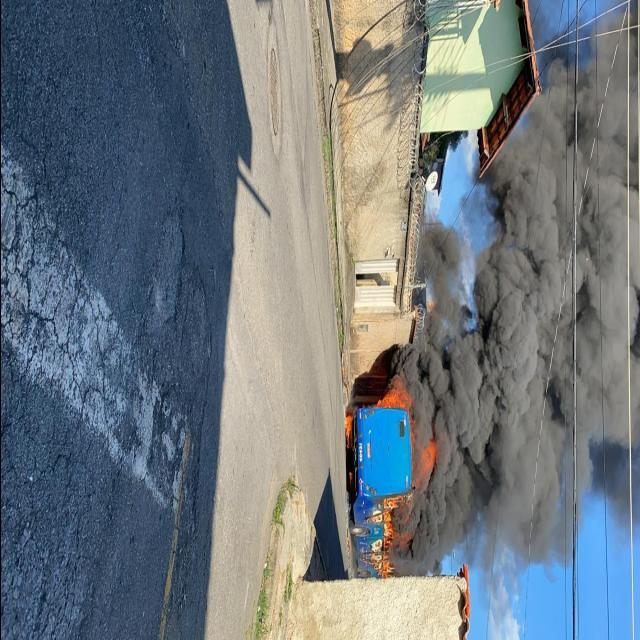Fire: (376, 387, 412, 418), (383, 496, 395, 546), (375, 556, 393, 578), (344, 414, 352, 448)
